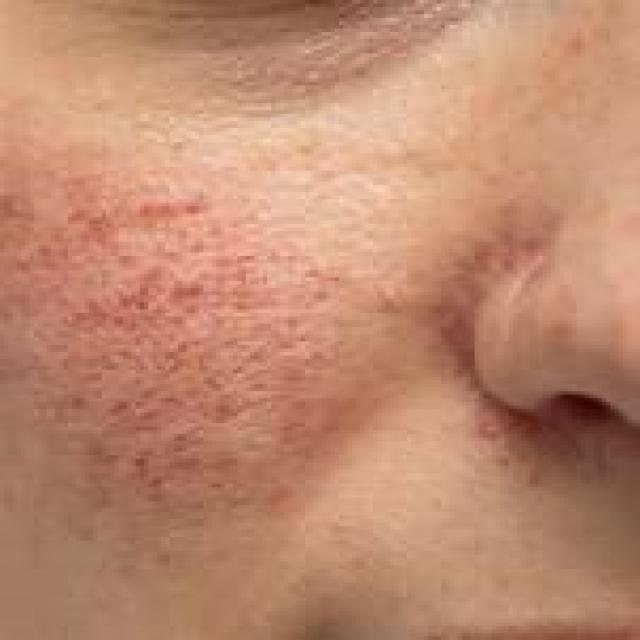pigmentation: (33, 195, 314, 547)
